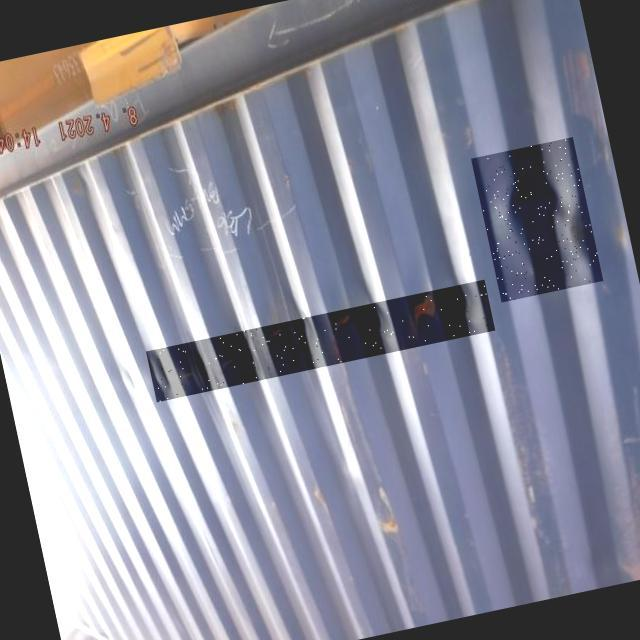Minor-Dent: (146, 279, 495, 402), (471, 137, 603, 302)
